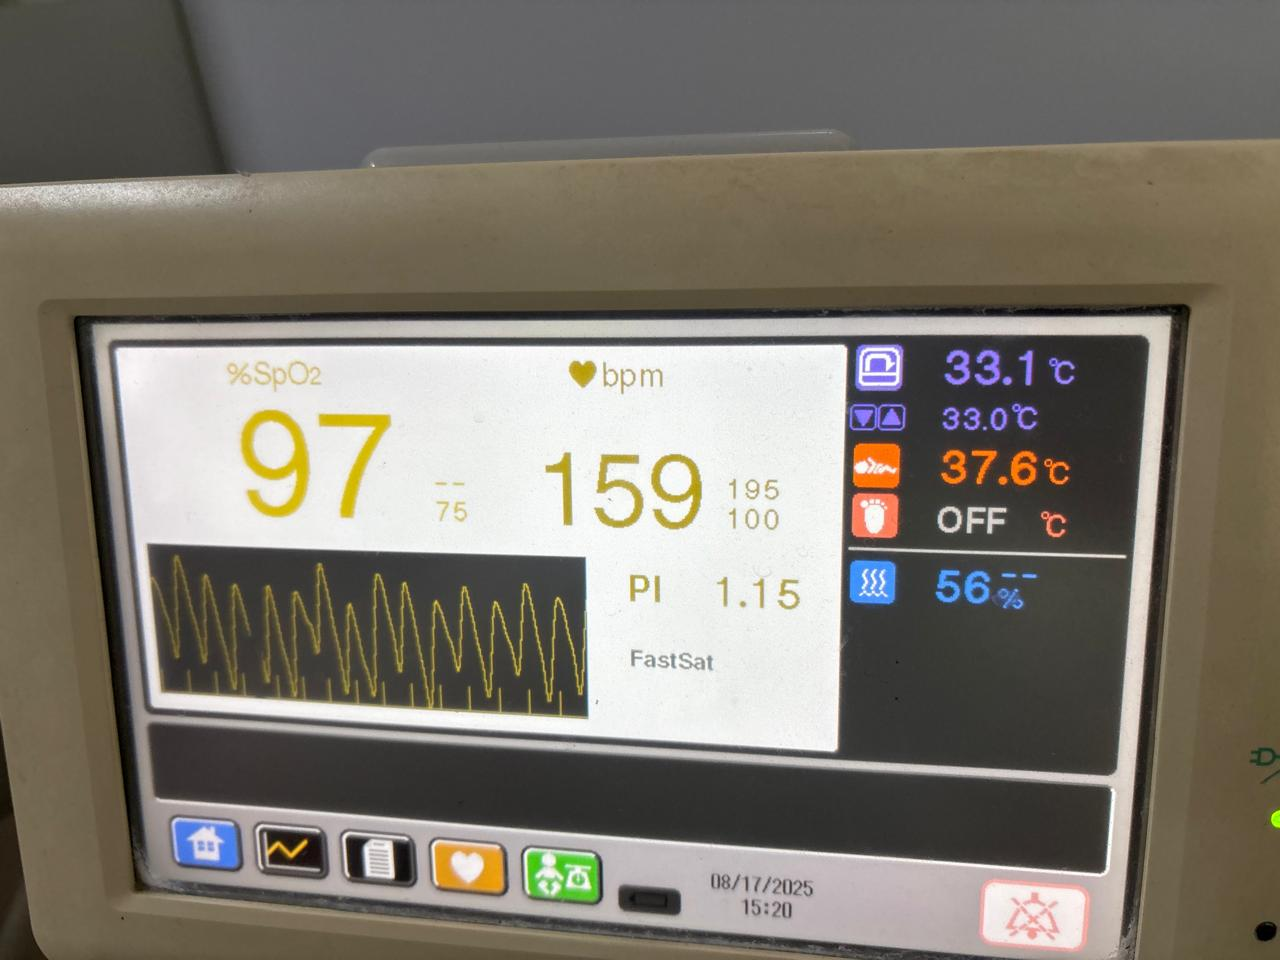heart_rate_value: (530, 435, 712, 544)
humidity_value: (924, 560, 996, 616)
skin_temp_value: (928, 436, 1043, 492)
spo2_value: (221, 398, 406, 548)
